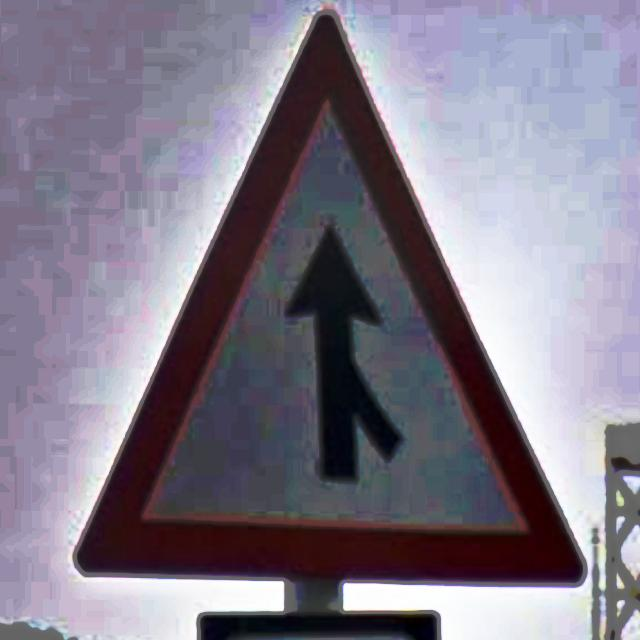rightmerge: (75, 14, 585, 586)
